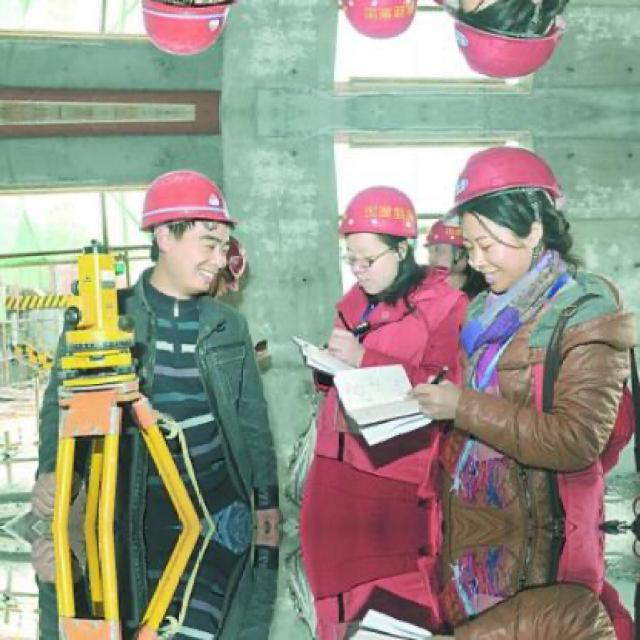helmet: (445, 134, 583, 295), (136, 160, 250, 292), (443, 0, 583, 93), (330, 174, 424, 295), (134, 0, 250, 66), (331, 0, 427, 52), (198, 238, 251, 299), (423, 219, 468, 271)
